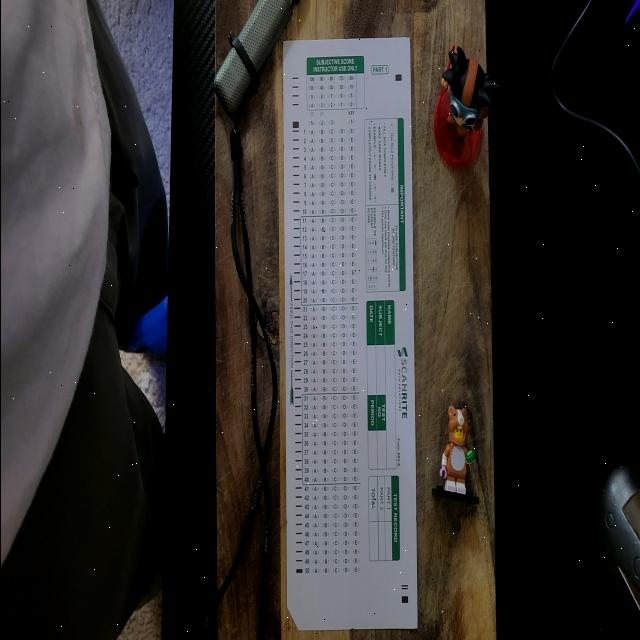scantron: (282, 39, 418, 632)
